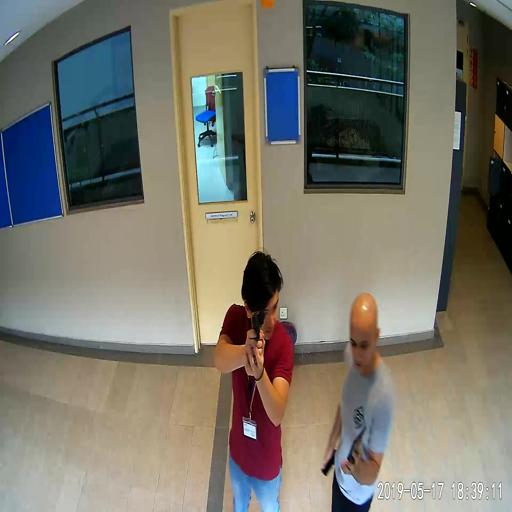pistol: (252, 310, 264, 359)
